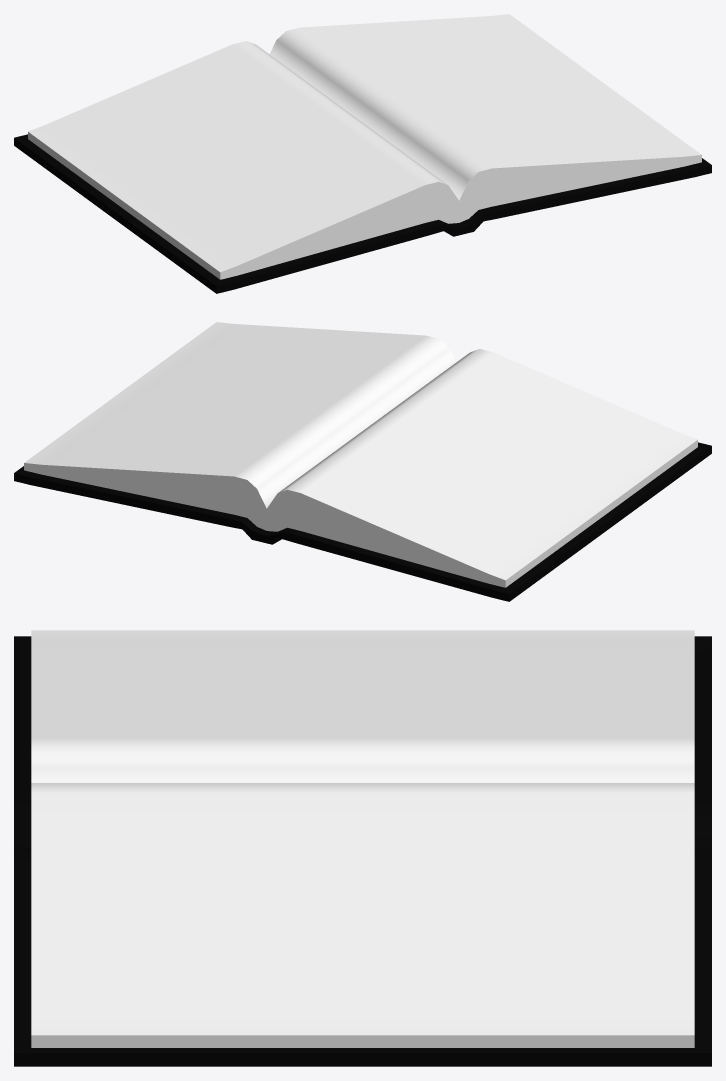
File: Notebook_1_Open.fbx
3 renders of one model, top to bottom at view 1: azimuth 30°, elevation 25°; view 2: azimuth 150°, elevation 25°; view 3: azimuth 270°, elevation 25°, orthographic. The views are drawn at different scales.
Parts seen in each view (by area): view 1: Notebook_1_Open; view 2: Notebook_1_Open; view 3: Notebook_1_Open.
Boxes of the visible parts, <box> form: Notebook_1_Open: <box>14,14,711,293</box>; Notebook_1_Open: <box>14,322,711,601</box>; Notebook_1_Open: <box>14,630,711,1066</box>.
Bounding box in the file's own units: 35.02 × 3.65 × 24.8.
